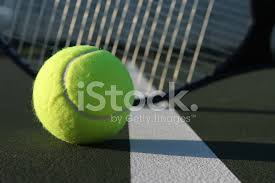tennis_ball: (31, 44, 134, 146)
